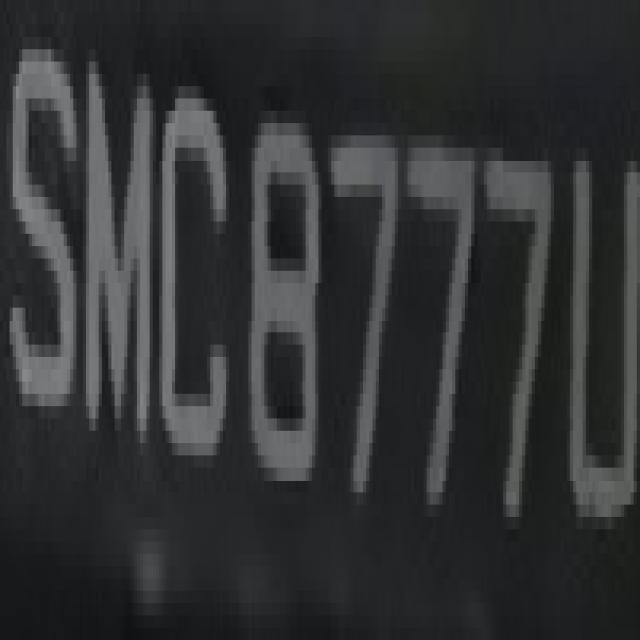7: (395, 86, 481, 542), (478, 86, 554, 554), (325, 98, 404, 517)
8: (239, 98, 334, 530)
C: (153, 74, 226, 529)
M: (76, 37, 156, 492)
S: (9, 0, 76, 443)
U: (557, 110, 640, 542)
